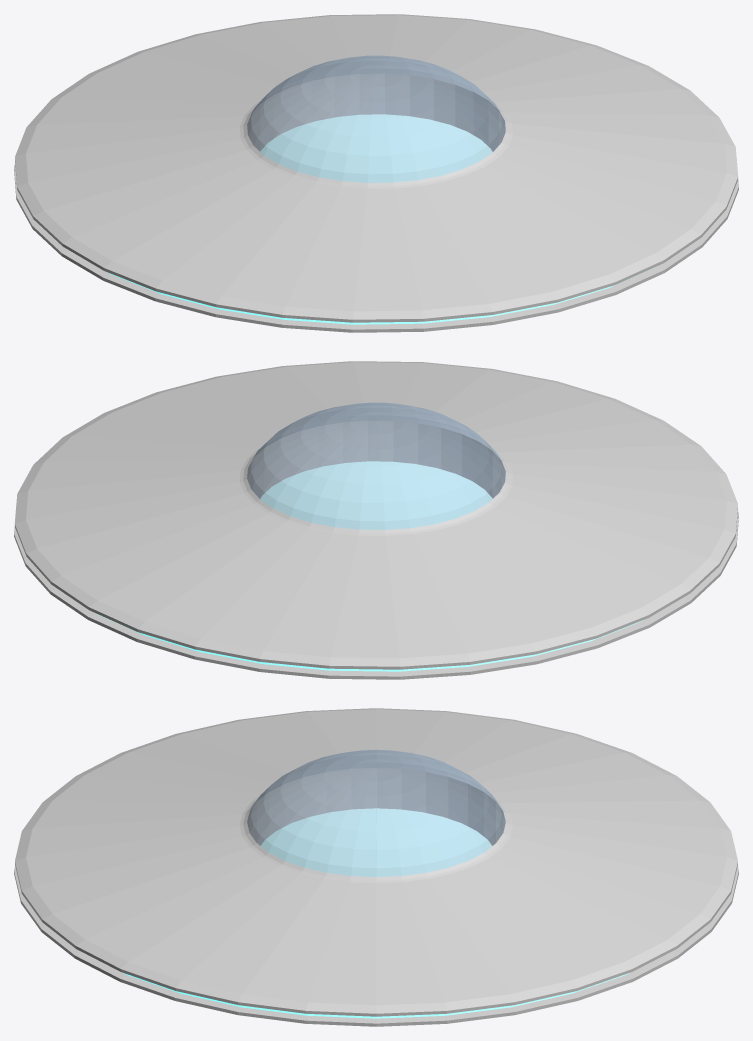
Rendered from ufo.glb.
3 renders of one model, top to bottom at view 1: azimuth 30°, elevation 25°; view 2: azimuth 150°, elevation 25°; view 3: azimuth 270°, elevation 25°, orthographic.
Visible parts, largest first — view 1: UFO; view 2: UFO; view 3: UFO.
Boxes of the visible parts, bbox=[...] form: UFO: bbox=[14, 14, 738, 332]; UFO: bbox=[14, 361, 738, 679]; UFO: bbox=[14, 708, 738, 1026].
Bounding box in the file's own units: 5.34 × 1.11 × 5.34.
